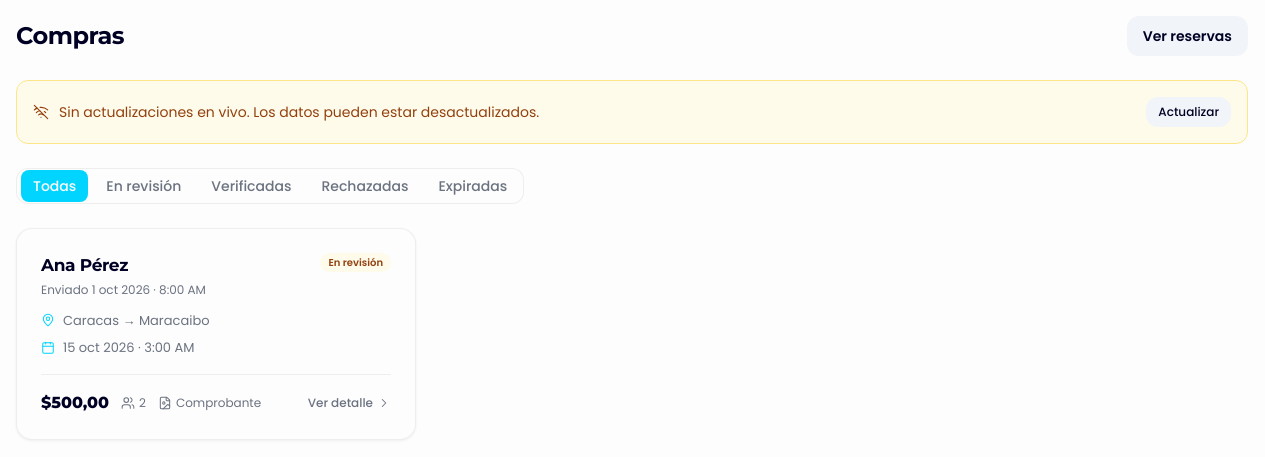
Test: RT-06 · listado /agency/payments › degrada con banner al perder Realtime y "Actualizar" reconsulta ya
This screenshot has width=1265, height=457.
Expected: the text "Caracas → Maracaibo" is shown, [63,310,210,330]
Expected: the text "Sin actualizaciones en vivo" is shown, [59,102,539,122]
Click the button "Actualizar": (1189, 112) [1146,97,1231,127]
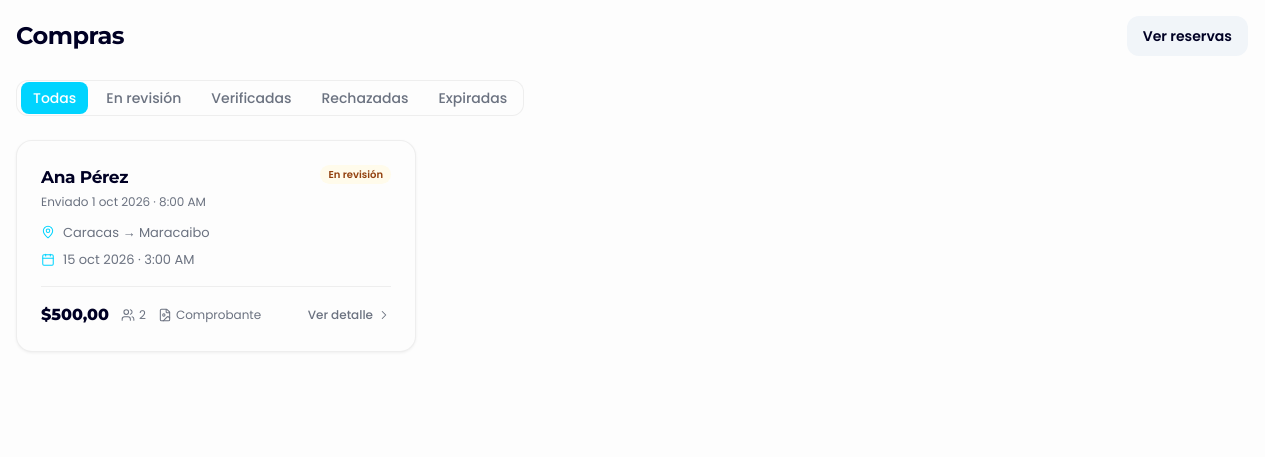
Expected: the text "Sin actualizaciones en vivo" is gone
